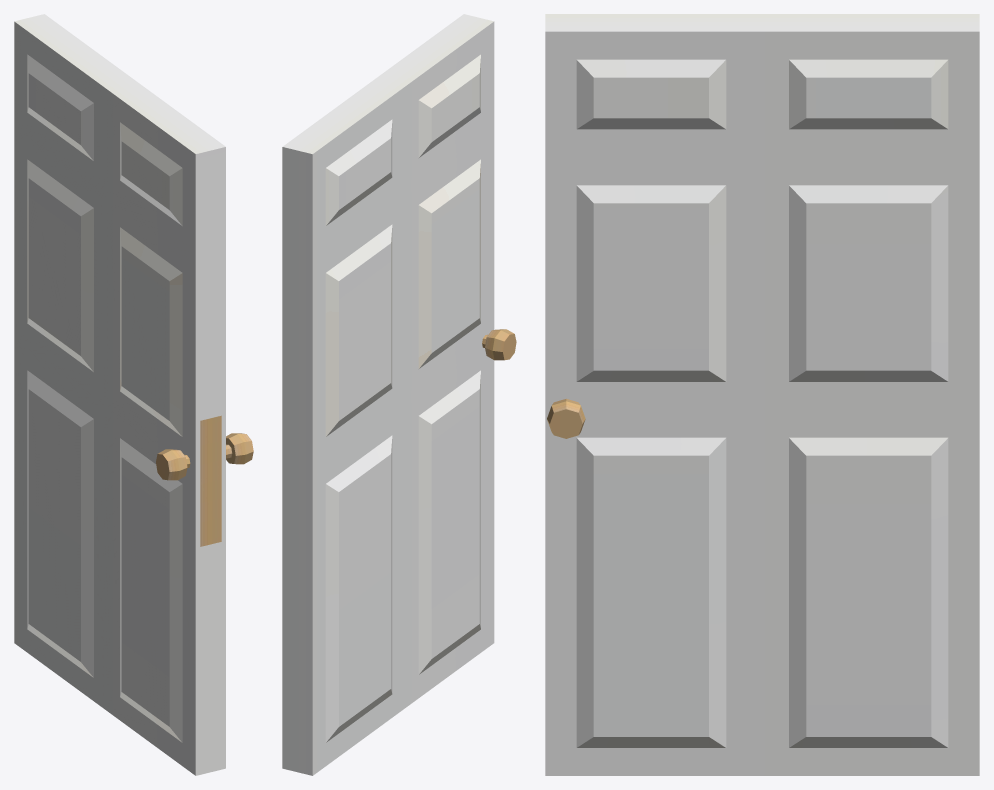
Rendered from door 1.glb.
3 views of the same model, side by side, from view 1: azimuth 30°, elevation 25°; view 2: azimuth 150°, elevation 25°; view 3: azimuth 270°, elevation 25° (orthographic). The views are drawn at different scales.
Parts seen in each view (by area): view 1: door 1; view 2: door 1; view 3: door 1.
Part boxes in pixels (x1=…): door 1: x1=14, y1=14, x2=253, y2=775; door 1: x1=282, y1=14, x2=516, y2=775; door 1: x1=545, y1=14, x2=979, y2=775.
Bounding box in the file's own units: 0.1129 × 0.7972 × 0.4218.
1 material, 1 textured.
